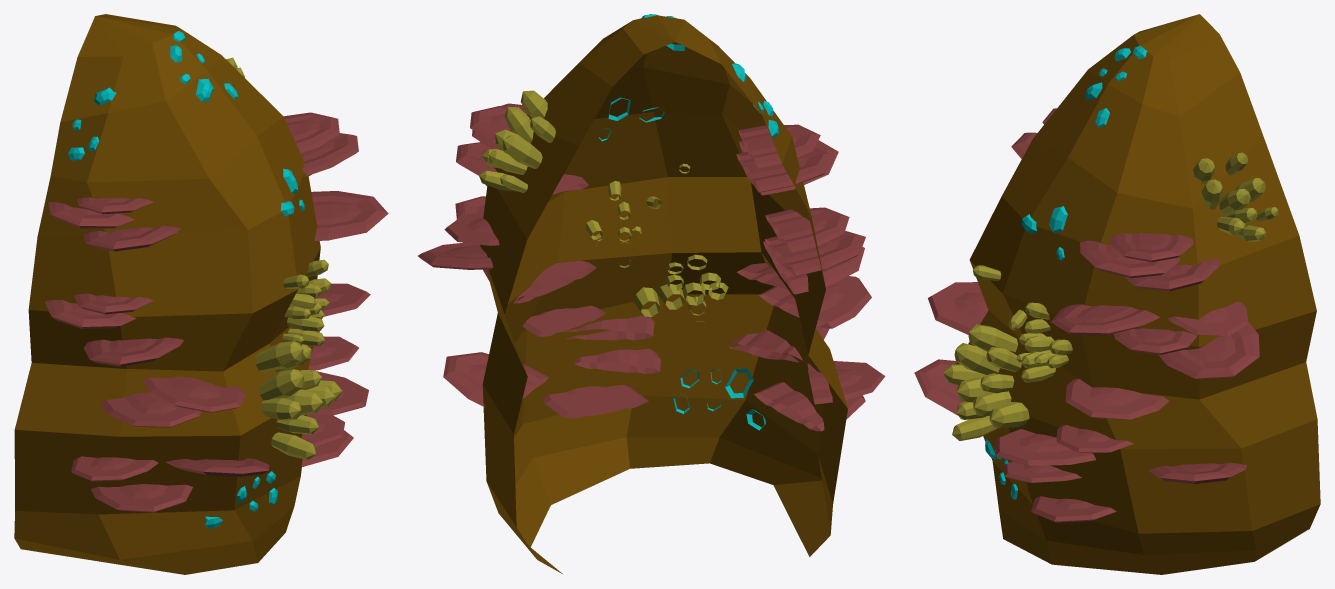
The model's file is Big rock 2.fbx.
The picture shows the model from 3 angles, left to right: view 1: azimuth 30°, elevation 25°; view 2: azimuth 150°, elevation 25°; view 3: azimuth 270°, elevation 25°; orthographic projection. The views are drawn at different scales.
Visible parts, largest first — view 1: group36_pCylinder75; view 2: group36_pCylinder75; view 3: group36_pCylinder75.
Boxes of the visible parts, x1=… form: group36_pCylinder75: x1=14, y1=14, x2=388, y2=574; group36_pCylinder75: x1=418, y1=14, x2=885, y2=573; group36_pCylinder75: x1=914, y1=14, x2=1320, y2=574.
Bounding box in the file's own units: 5.01 × 6.6 × 4.93.
